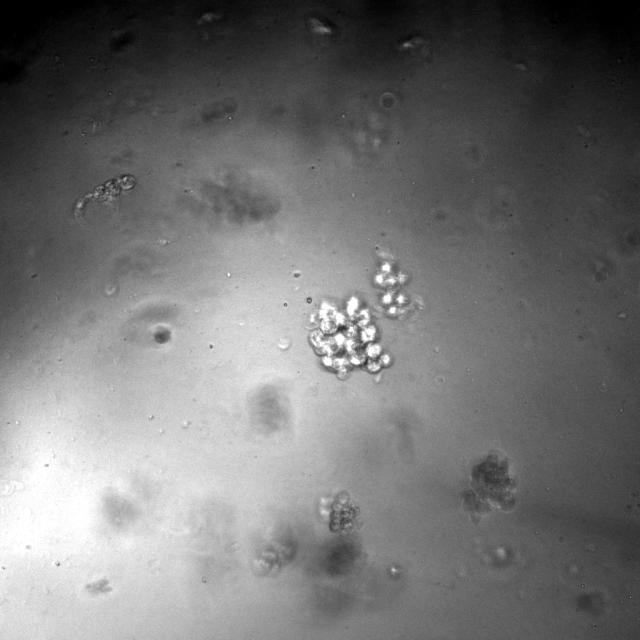organoid: (309, 295, 392, 379), (462, 451, 516, 520), (372, 250, 423, 319), (74, 174, 134, 222), (254, 523, 298, 575), (328, 491, 359, 534), (154, 328, 171, 344)
